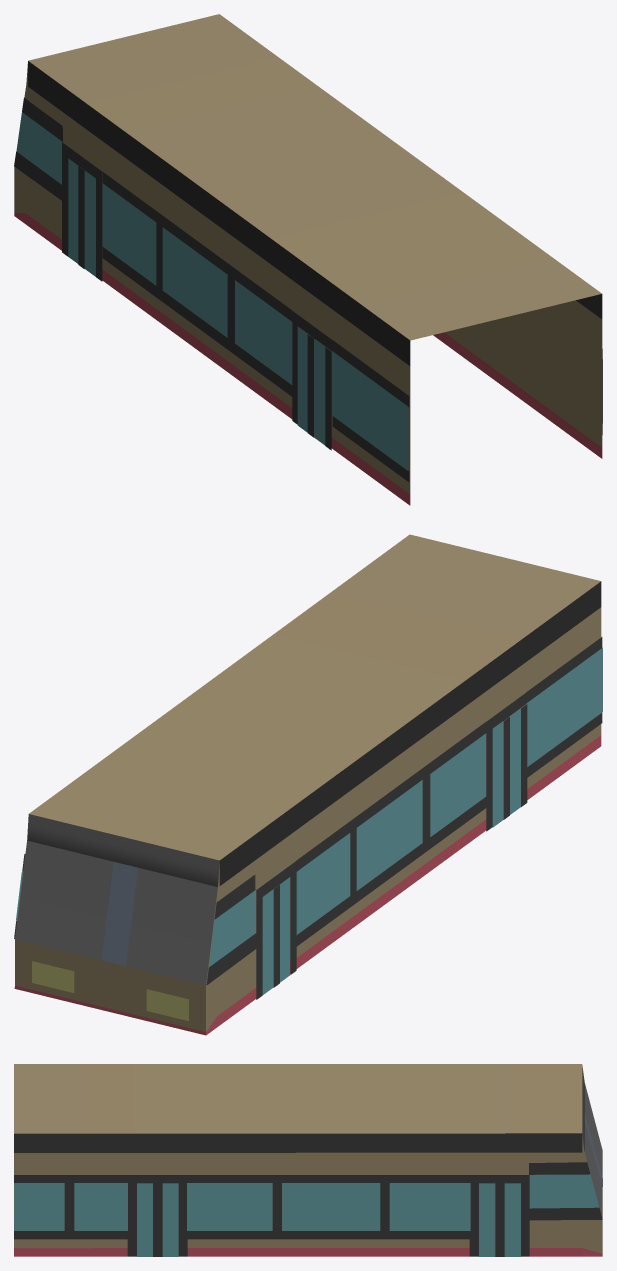
The model's file is BusMax.fbx.
3 renders of one model, top to bottom at view 1: azimuth 30°, elevation 25°; view 2: azimuth 150°, elevation 25°; view 3: azimuth 270°, elevation 25°, orthographic. The views are drawn at different scales.
Parts seen in each view (by area): view 1: pPlane57; view 2: pPlane57; view 3: pPlane57.
Part boxes in pixels (x1=…): pPlane57: x1=14, y1=14, x2=602, y2=505; pPlane57: x1=14, y1=534, x2=602, y2=1035; pPlane57: x1=14, y1=1064, x2=602, y2=1256.
Bounding box in the file's own units: 2.06 × 1.67 × 7.26.
